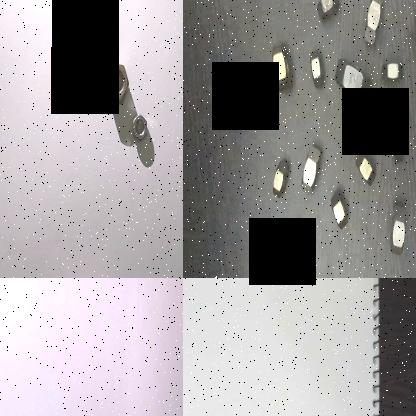NUTS: (386, 193, 416, 273), (328, 52, 370, 104), (220, 85, 258, 133), (266, 36, 294, 98), (294, 140, 326, 192), (260, 155, 294, 201), (361, 0, 392, 48), (102, 57, 128, 105), (304, 43, 328, 94), (352, 144, 380, 184), (327, 189, 351, 233), (390, 124, 408, 167), (380, 56, 404, 88), (130, 110, 147, 146), (315, 0, 339, 25), (406, 5, 416, 62)
